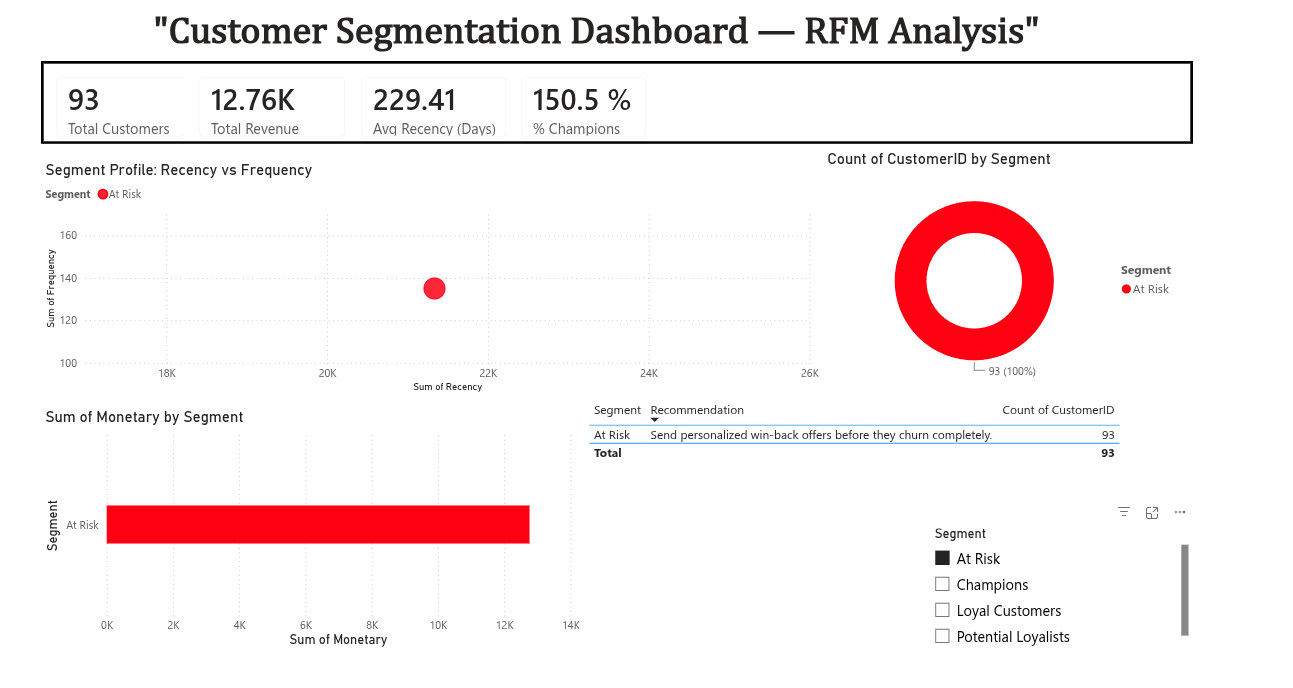

What the dashboard file says about the page in this screenshot:
{"tool":"powerbi","page":{"name":"Page 1","canvas":[1280,720],"ordinal":0},"visuals":[{"type":"cardVisual","fields":{"Data":["customer_segments_for_powerbi 1.Total Customers"]},"box":[0,65.6,177.8,100],"z":0},{"type":"cardVisual","fields":{"Data":["customer_segments_for_powerbi 1.Total Revenue"]},"box":[158.9,65.6,196.7,100],"z":1000},{"type":"cardVisual","fields":{"Data":["customer_segments_for_powerbi 1.Avg Recency (Days)"]},"box":[338.9,65.6,195.6,100],"z":2000},{"type":"cardVisual","fields":{"Data":["customer_segments_for_powerbi 1.% Champions"]},"box":[516.7,65.6,173.3,100],"z":3000},{"type":"donutChart","fields":{"Category":["customer_segments_for_powerbi 1.Segment"],"Y":["CountNonNull(customer_segments_for_powerbi 1.CustomerID)"]},"box":[868.9,165.6,411.1,271.1],"z":4000},{"type":"clusteredBarChart","fields":{"Category":["customer_segments_for_powerbi 1.Segment"],"Y":["Sum(customer_segments_for_powerbi 1.Monetary)"]},"box":[0,452.2,603.3,267.8],"z":5000},{"type":"scatterChart","title":"   Segment Profile: Recency vs Frequency","fields":{"Series":["customer_segments_for_powerbi 1.Segment"],"Size":["Sum(customer_segments_for_powerbi 1.Monetary)"],"X":["Sum(customer_segments_for_powerbi 1.Recency)"],"Y":["Sum(customer_segments_for_powerbi 1.Frequency)"]},"box":[0,177.8,868.9,258.9],"z":6000},{"type":"tableEx","fields":{"Values":["customer_segments_for_powerbi 1.Segment","customer_segments_for_powerbi 1.Recommendation","CountNonNull(customer_segments_for_powerbi 1.CustomerID)"]},"box":[603.3,436.7,668.9,142.2],"z":6001},{"type":"textbox","box":[120,3.3,1040,62.2],"z":6002},{"type":"shape","box":[0,27.8,1280,75.6],"z":6003},{"type":"shape","box":[0,64.4,1280,92.2],"z":6004},{"type":"slicer","fields":{"Values":["customer_segments_for_powerbi 1.Segment"]},"box":[980,578.9,300,141.1],"z":6005}]}

Visuals, with their boxes on the page's 1280x720 design canvas (x1, y1, x2, y2). These are canvas units, not pixel positions in the 1293x688 screenshot, which may show the page scaled, cropped or inside an application window:
cardVisual - customer_segments_for_powerbi 1.Total Customers: locate(0, 66, 178, 166)
cardVisual - customer_segments_for_powerbi 1.Total Revenue: locate(159, 66, 356, 166)
cardVisual - customer_segments_for_powerbi 1.Avg Recency (Days): locate(339, 66, 534, 166)
cardVisual - customer_segments_for_powerbi 1.% Champions: locate(517, 66, 690, 166)
donutChart - customer_segments_for_powerbi 1.Segment x CountNonNull(customer_segments_for_powerbi 1.CustomerID): locate(869, 166, 1280, 437)
clusteredBarChart - customer_segments_for_powerbi 1.Segment x Sum(customer_segments_for_powerbi 1.Monetary): locate(0, 452, 603, 720)
"   Segment Profile: Recency vs Frequency" scatterChart: locate(0, 178, 869, 437)
tableEx - customer_segments_for_powerbi 1.Segment x customer_segments_for_powerbi 1.Recommendation: locate(603, 437, 1272, 579)
textbox: locate(120, 3, 1160, 66)
shape: locate(0, 28, 1280, 103)
shape: locate(0, 64, 1280, 157)
slicer - customer_segments_for_powerbi 1.Segment: locate(980, 579, 1280, 720)
